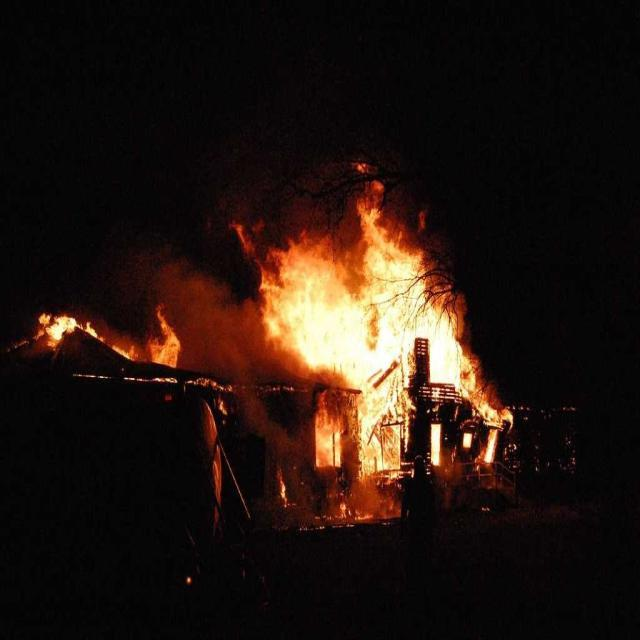Fire: (259, 161, 490, 460), (31, 296, 180, 369)
